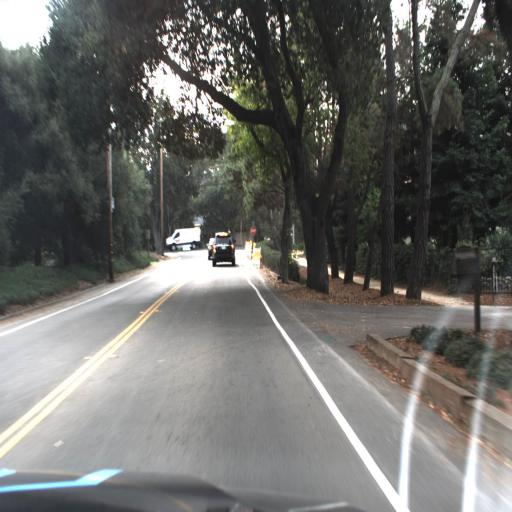car: (210, 230, 236, 266), (206, 234, 214, 264), (205, 236, 214, 260)
truck: (161, 224, 202, 254)
